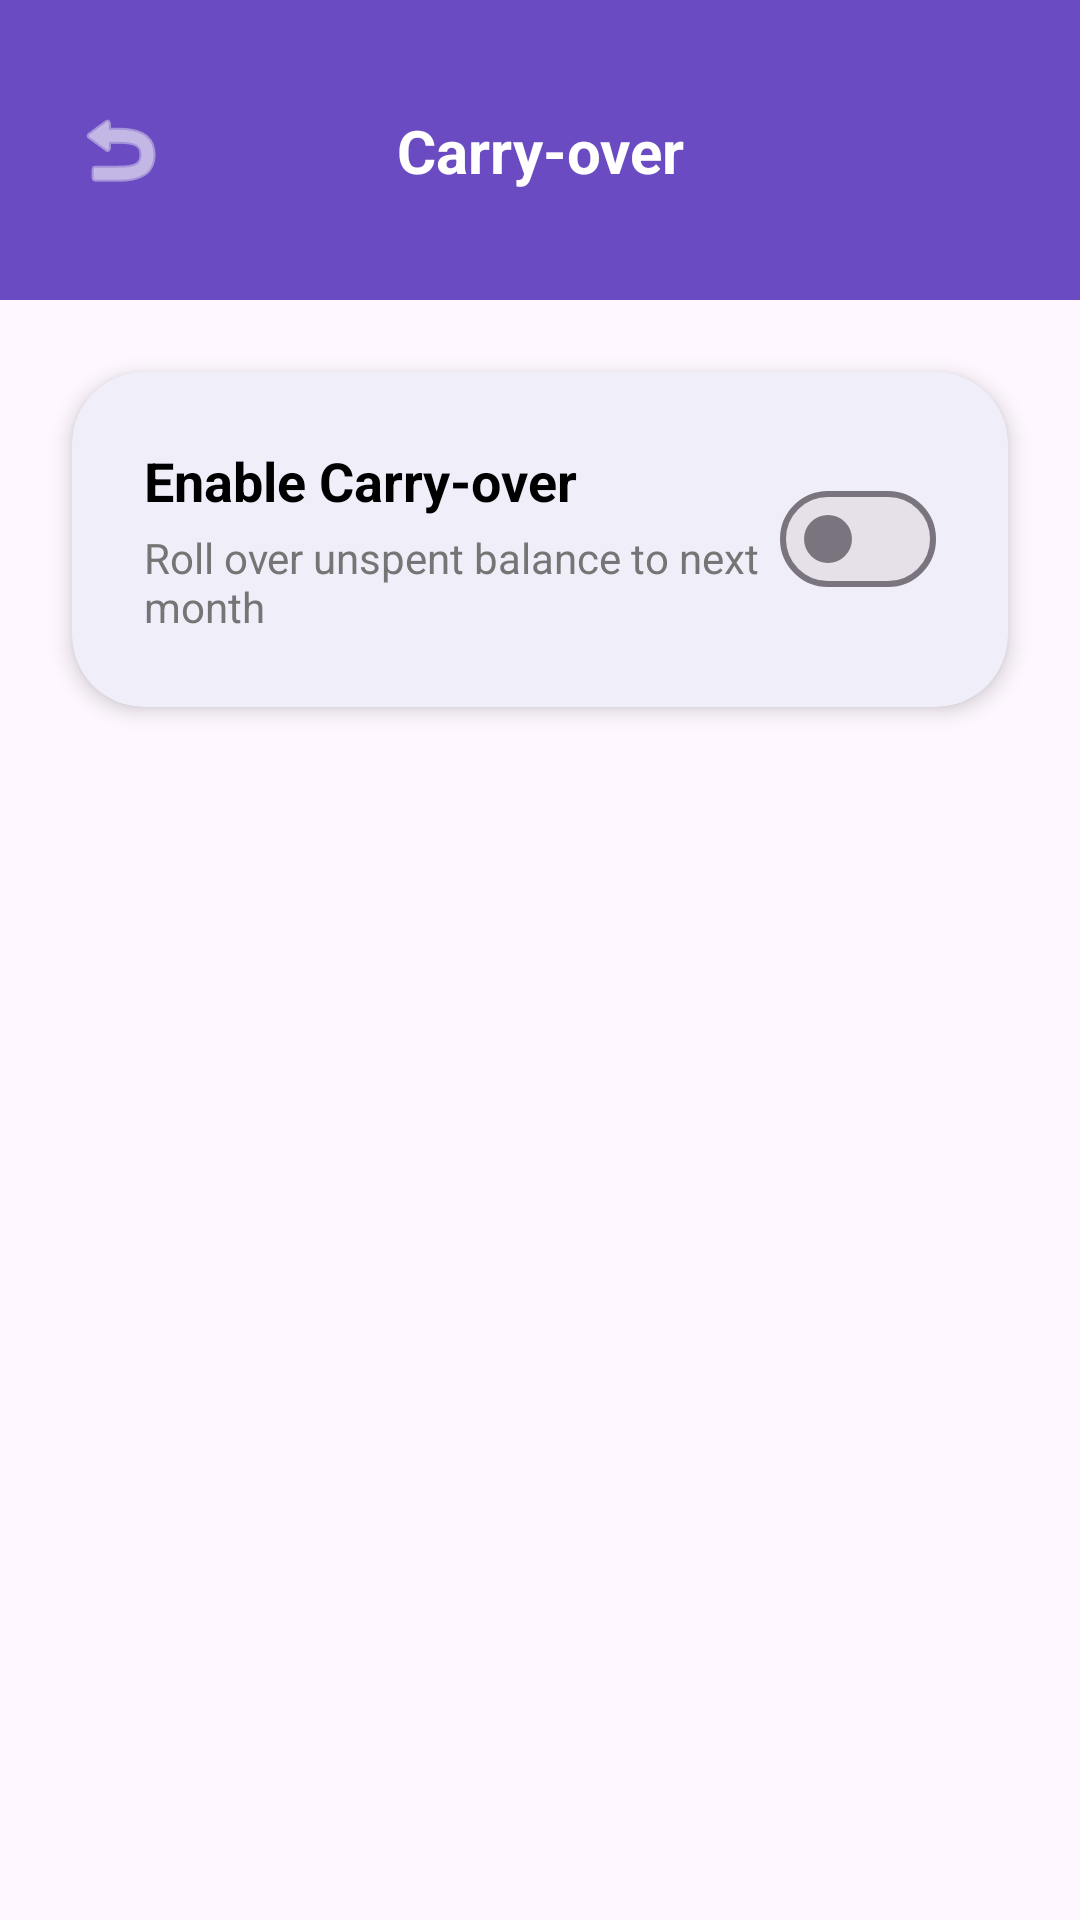

Locate icon controls on the screen. Image size 1080 × 1920, boxes as (x1, y1, x2, y2).
revert: (87, 119, 156, 182)
